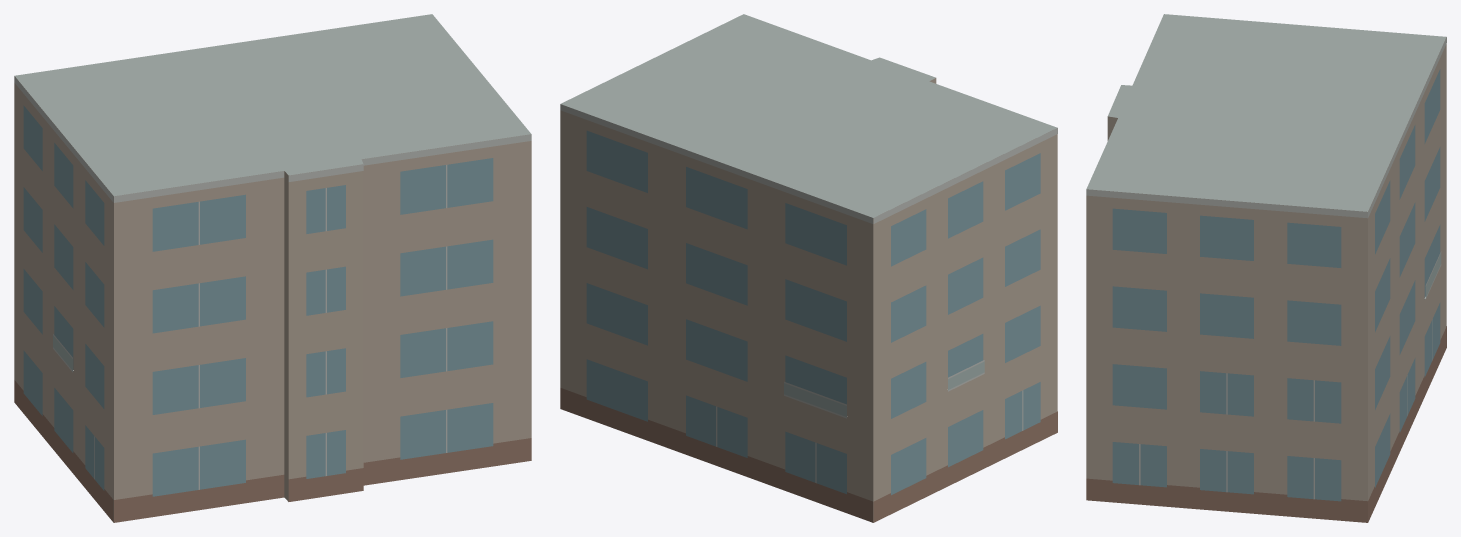
The model's file is survey-upis-32999060.glb.
3 renders of one model, left to right at view 1: azimuth 30°, elevation 25°; view 2: azimuth 150°, elevation 25°; view 3: azimuth 270°, elevation 25°, orthographic. The views are drawn at different scales.
Visible parts, largest first — view 1: survey-upis-32999060.tmp; view 2: survey-upis-32999060.tmp; view 3: survey-upis-32999060.tmp.
Boxes of the visible parts, left/top/right/bottom form: survey-upis-32999060.tmp: left=14, top=14, right=531, bottom=522; survey-upis-32999060.tmp: left=560, top=14, right=1057, bottom=522; survey-upis-32999060.tmp: left=1086, top=14, right=1446, bottom=522.
Bounding box in the file's own units: 16.24 × 11.9 × 12.51.
